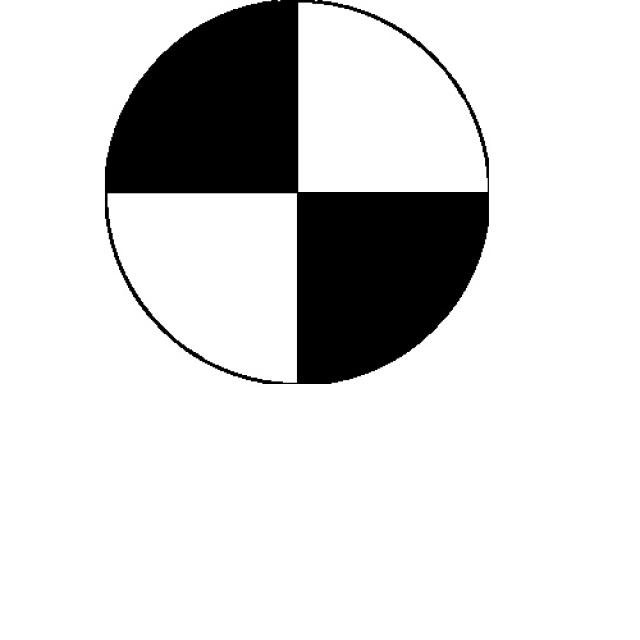Marcadores: (107, 0, 487, 385)
